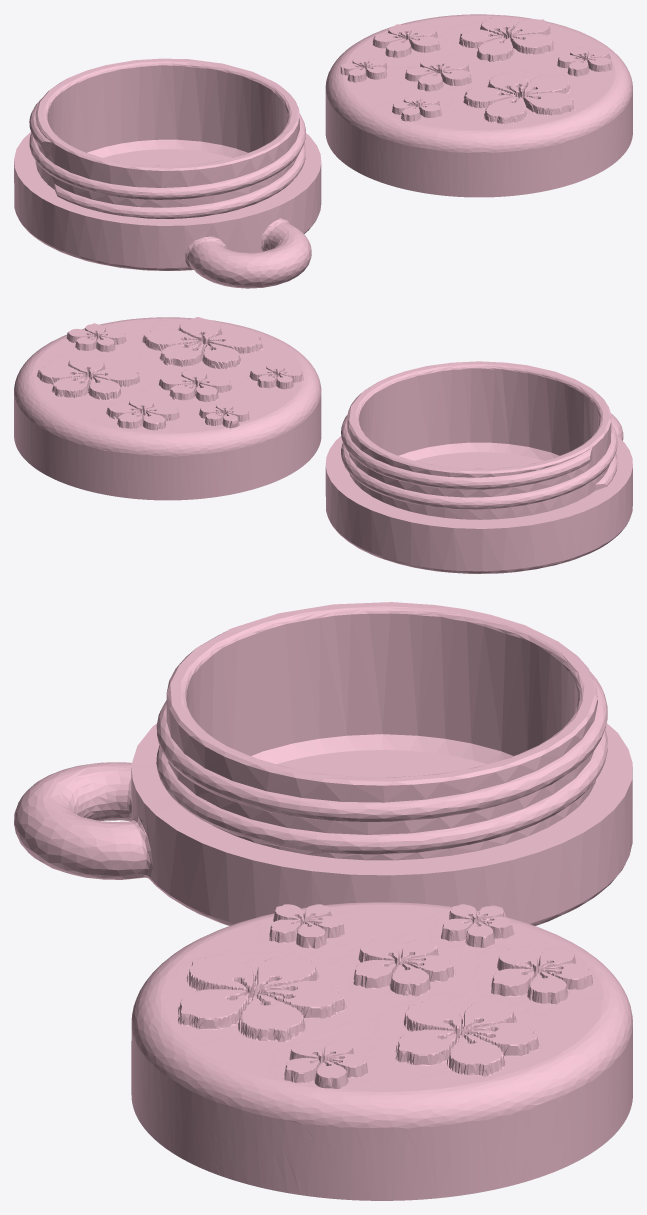
Rendered from llavero-porta-anillos.glb.
3 renders of one model, top to bottom at view 1: azimuth 30°, elevation 25°; view 2: azimuth 150°, elevation 25°; view 3: azimuth 270°, elevation 25°, orthographic. The views are drawn at different scales.
Parts seen in each view (by area): view 1: pieza; view 2: pieza; view 3: pieza.
Boxes of the visible parts, box(x1,y1,x2,y2) form: pieza: box(14, 14, 632, 288); pieza: box(14, 317, 632, 573); pieza: box(14, 602, 632, 1200).
Size of the model in its own units: 0.0764 by 0.012 by 0.0434.
